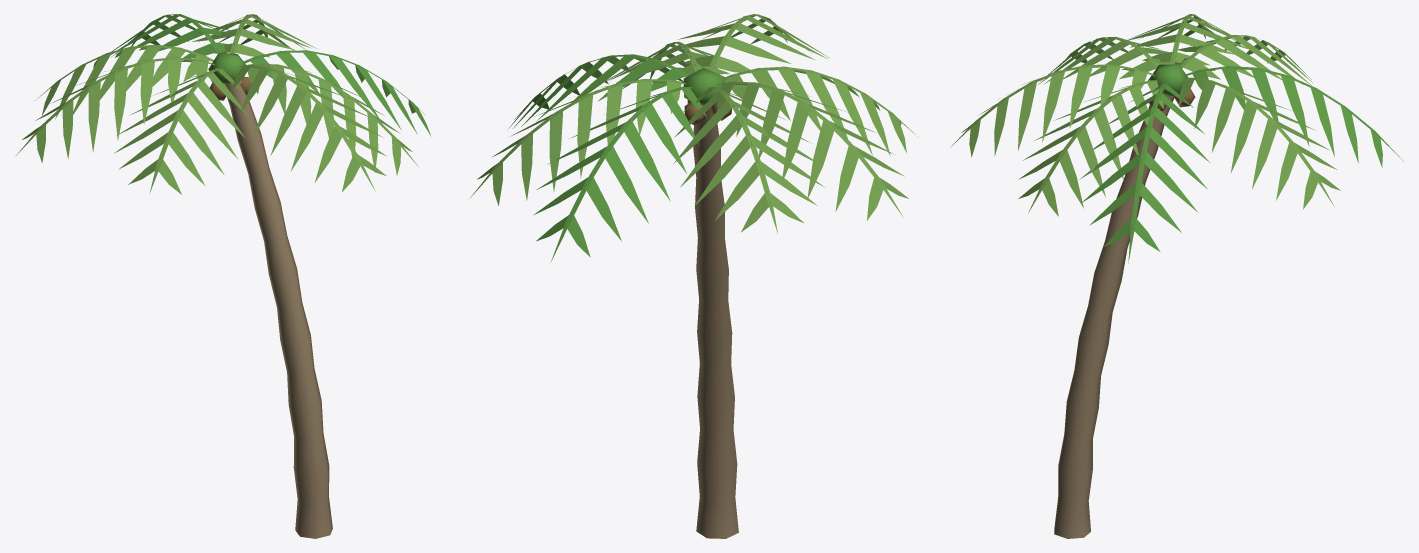
File: palm_2.glb
3 views of the same model, side by side, from view 1: azimuth 30°, elevation 25°; view 2: azimuth 150°, elevation 25°; view 3: azimuth 270°, elevation 25° (orthographic). The views are drawn at different scales.
Visible parts, largest first — view 1: palm_2; view 2: palm_2; view 3: palm_2.
Boxes of the visible parts, x1,y1,x2,y2 form: palm_2: [15, 14, 431, 538]; palm_2: [470, 14, 918, 538]; palm_2: [950, 14, 1403, 538].
Bounding box in the file's own units: 6.21 × 7.03 × 6.39.
